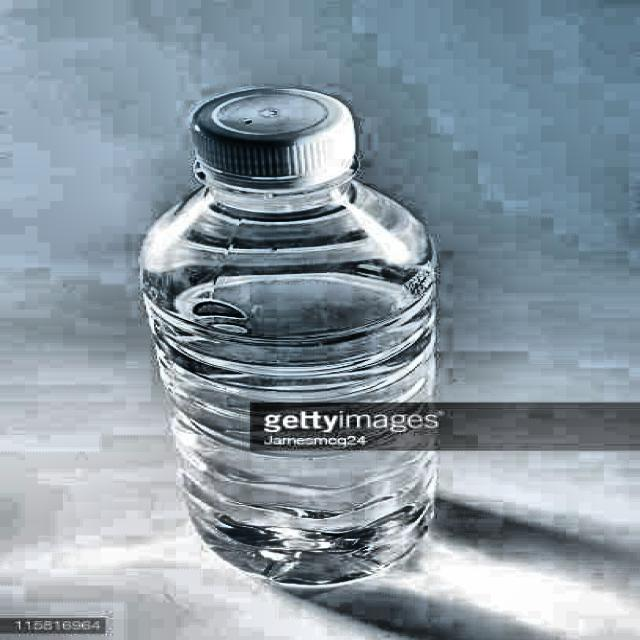Bottles: (128, 77, 452, 592)
